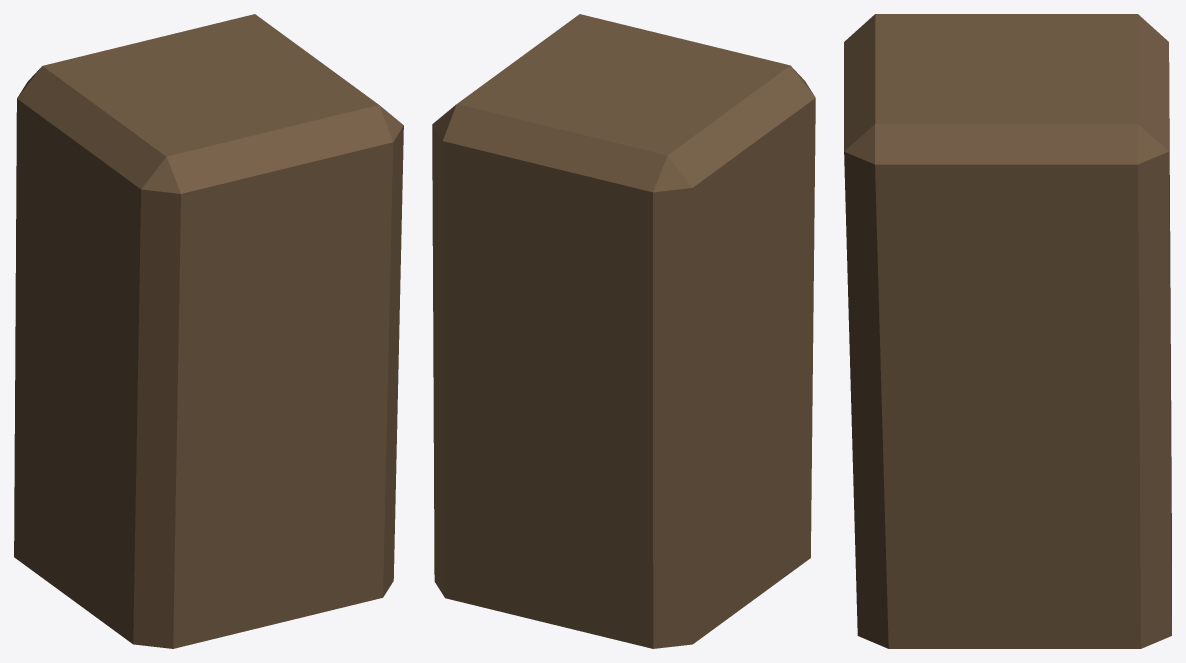
File: rpgpp_ag_wall_connector_corner_01_1m.fbx
3 views of the same model, side by side, from view 1: azimuth 30°, elevation 25°; view 2: azimuth 150°, elevation 25°; view 3: azimuth 270°, elevation 25° (orthographic). The views are drawn at different scales.
Parts seen in each view (by area): view 1: rpgpp_ag_wall_connector_corner_01_1m; view 2: rpgpp_ag_wall_connector_corner_01_1m; view 3: rpgpp_ag_wall_connector_corner_01_1m.
Part boxes in pixels (left/top/right/bottom): rpgpp_ag_wall_connector_corner_01_1m: left=14, top=14, right=403, bottom=648; rpgpp_ag_wall_connector_corner_01_1m: left=432, top=14, right=815, bottom=648; rpgpp_ag_wall_connector_corner_01_1m: left=844, top=14, right=1171, bottom=648.
Size of the model in its own units: 0.6262 by 1.1 by 0.6355.
